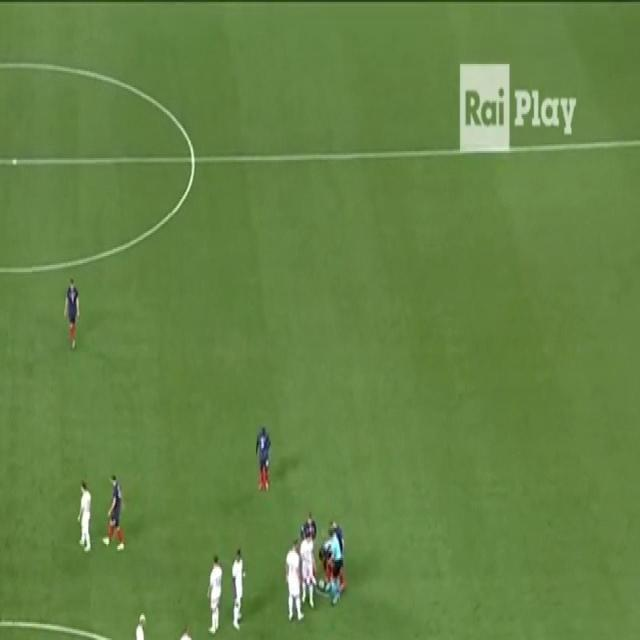player-white: (99, 472, 127, 554), (284, 535, 306, 627), (296, 528, 318, 612), (204, 548, 224, 636), (325, 526, 344, 612), (230, 545, 248, 635), (253, 422, 273, 500), (75, 478, 94, 560), (61, 274, 80, 352), (328, 515, 346, 569), (317, 536, 329, 592), (303, 509, 318, 550), (130, 608, 148, 640), (175, 620, 198, 640)
